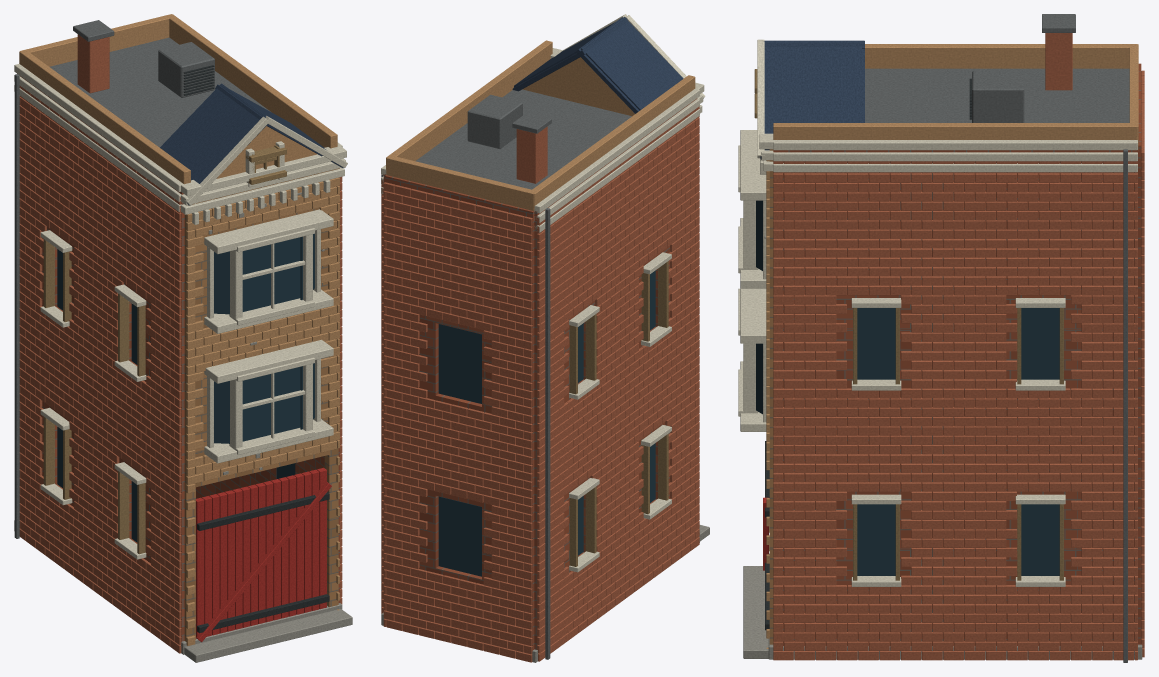
The model's file is VICT2A_lod0.glb.
The picture shows the model from 3 angles, left to right: view 1: azimuth 30°, elevation 25°; view 2: azimuth 150°, elevation 25°; view 3: azimuth 270°, elevation 25°; orthographic projection. The views are drawn at different scales.
Parts seen in each view (by area): view 1: VICT2A_LOD0; view 2: VICT2A_LOD0; view 3: VICT2A_LOD0.
Part boxes in pixels (x1,y1,x2,y2): VICT2A_LOD0: (14,14,352,662); VICT2A_LOD0: (381,14,709,662); VICT2A_LOD0: (738,14,1144,662).
Bounding box in the file's own units: 3.71 × 10.46 × 6.69.
Materials: 17 (15 with a texture image).
